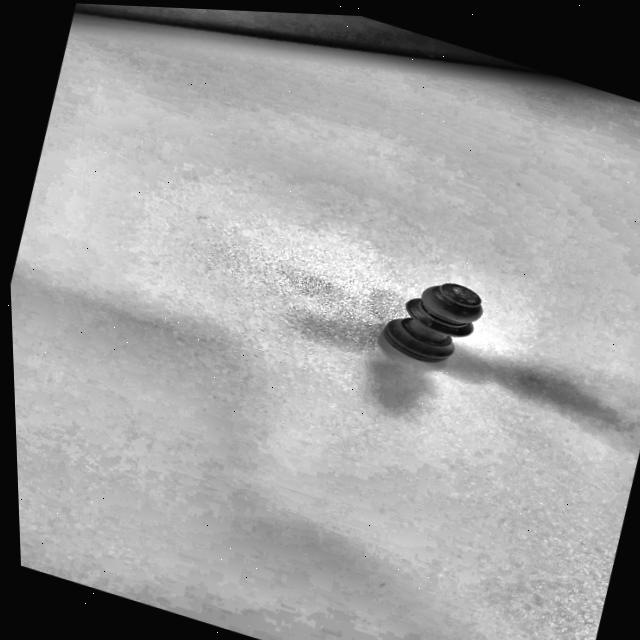black-bishop: (362, 259, 496, 381)
